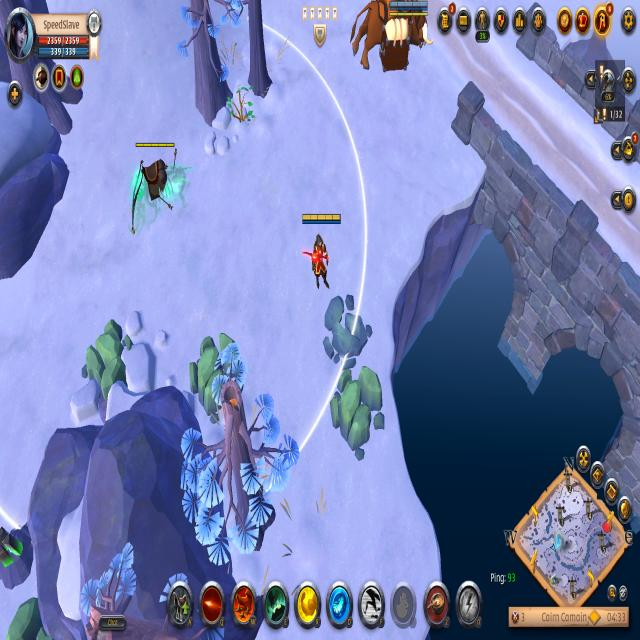ore: (129, 137, 182, 239)
player: (0, 508, 35, 586)
red: (348, 0, 436, 92), (300, 210, 341, 294)
tree: (327, 358, 391, 468), (78, 314, 135, 407), (188, 327, 246, 418), (1, 592, 44, 639)
